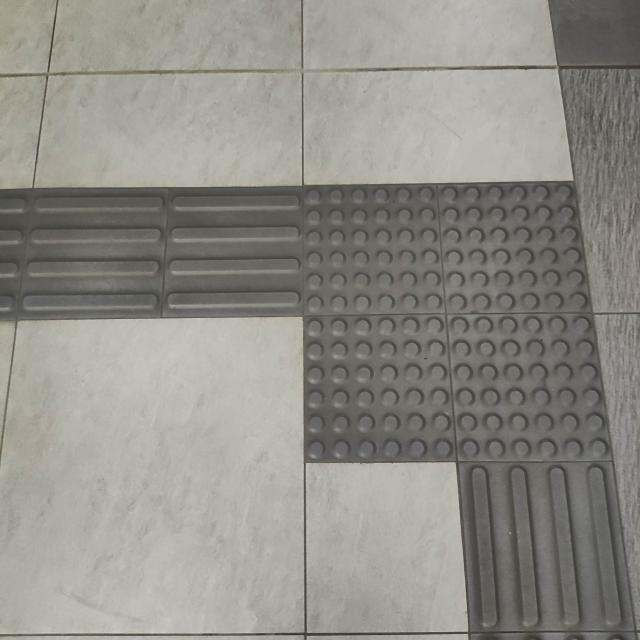kiri: (24, 116, 640, 532)
